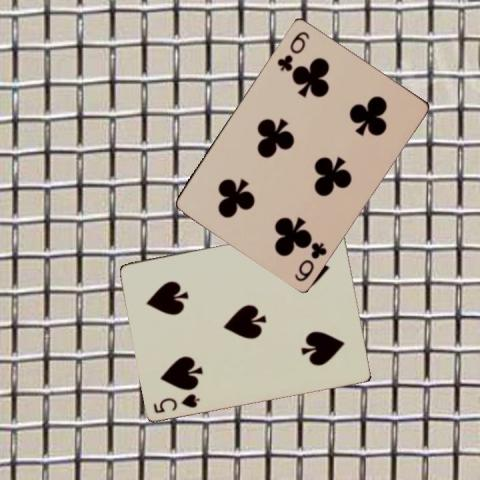5s: (151, 390, 202, 415)
6c: (274, 27, 311, 73), (290, 238, 328, 282)
